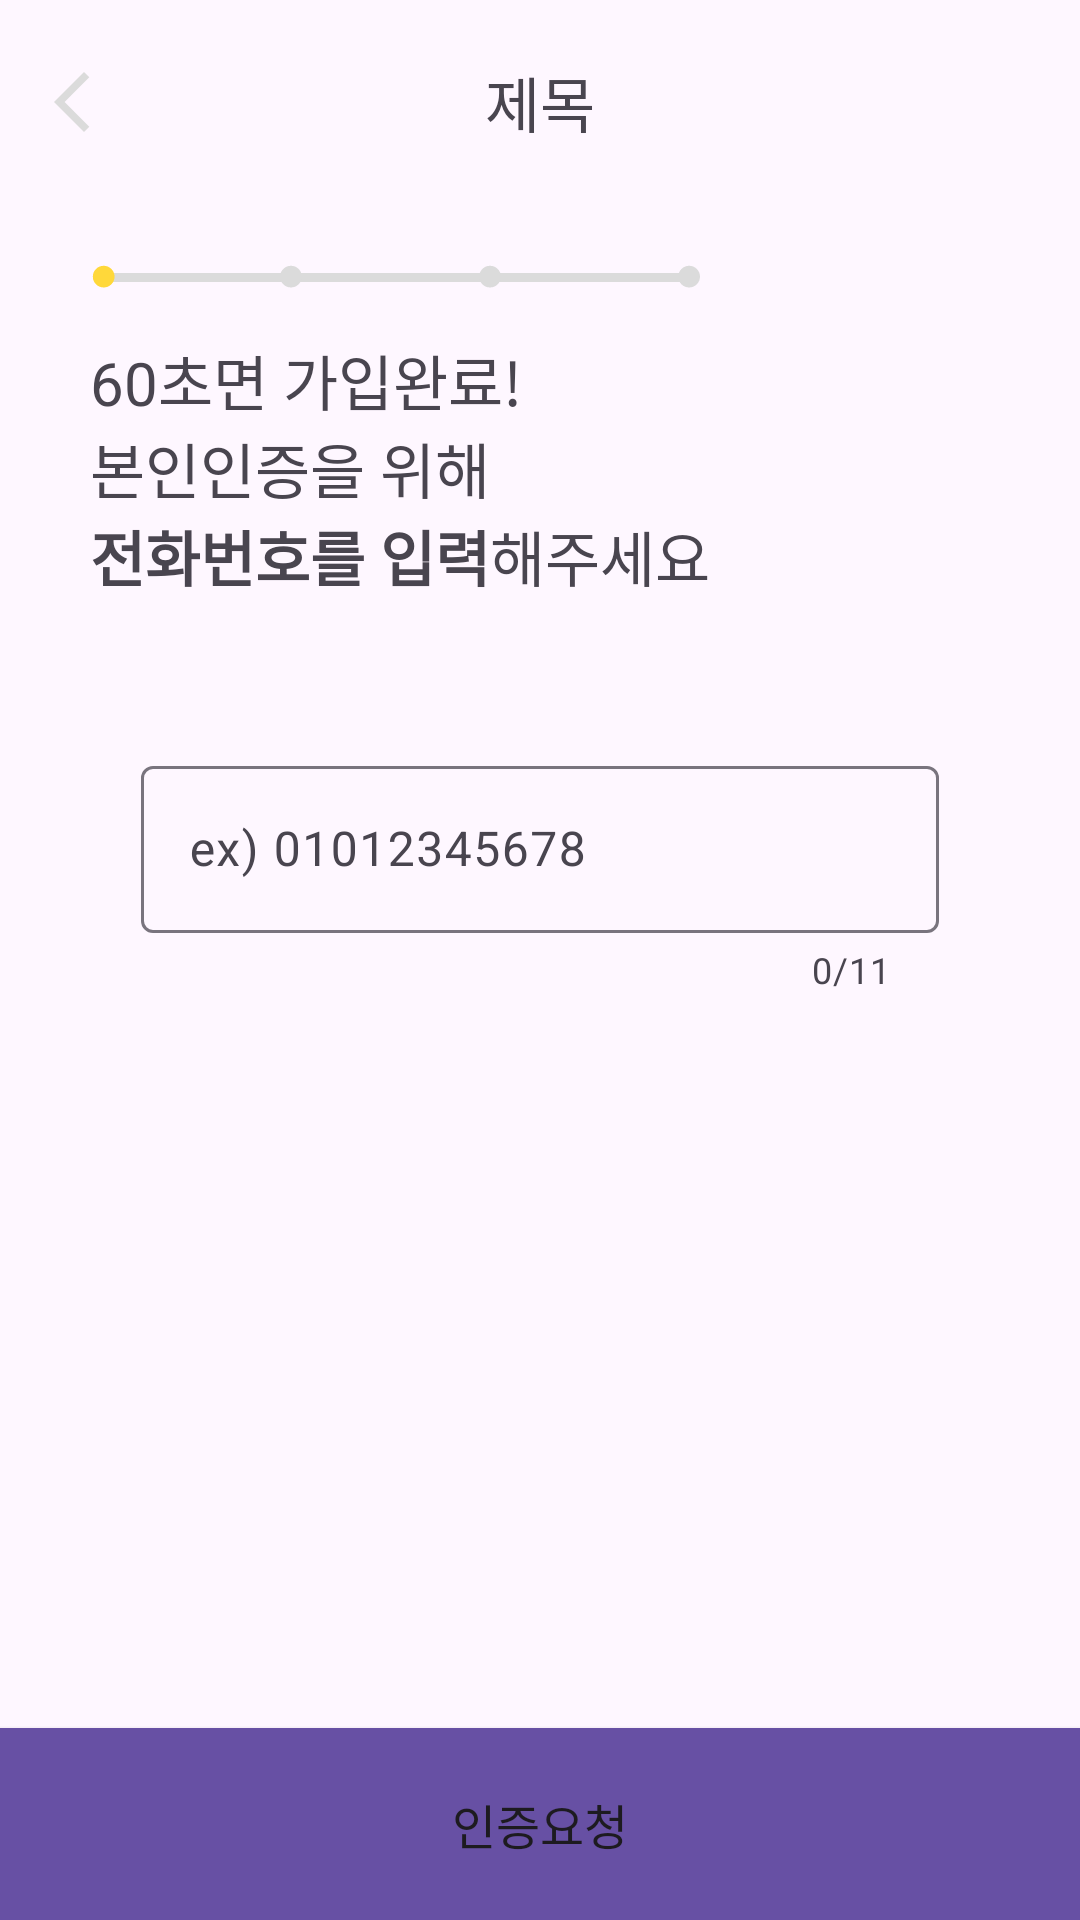

Screen size 1080px x 1920px. Icon name, then its center in pixels as [x,y]:
arrow back: [72,102]
